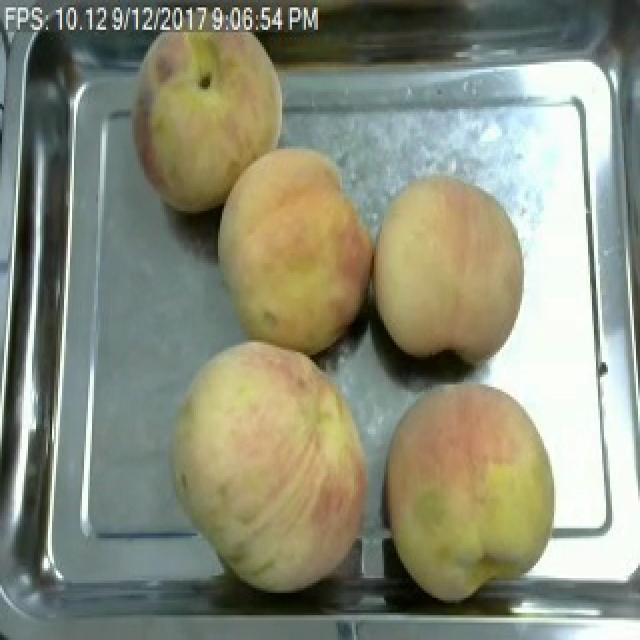Fruit: (160, 332, 386, 603), (376, 370, 568, 612), (206, 139, 378, 365), (118, 7, 292, 221), (364, 166, 534, 370)
